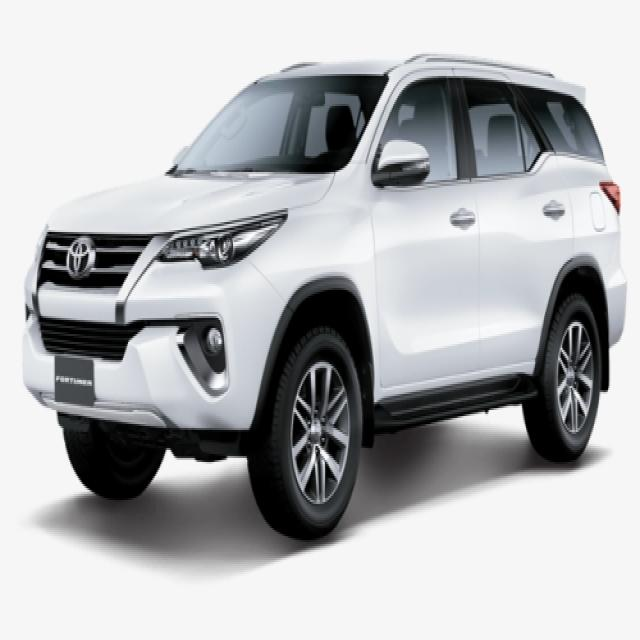light_vehicle: (21, 54, 628, 542)
